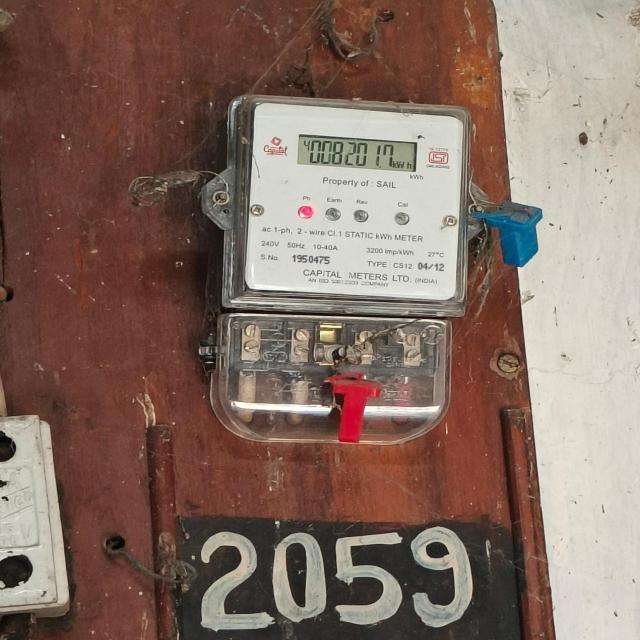display: (291, 131, 426, 178)
